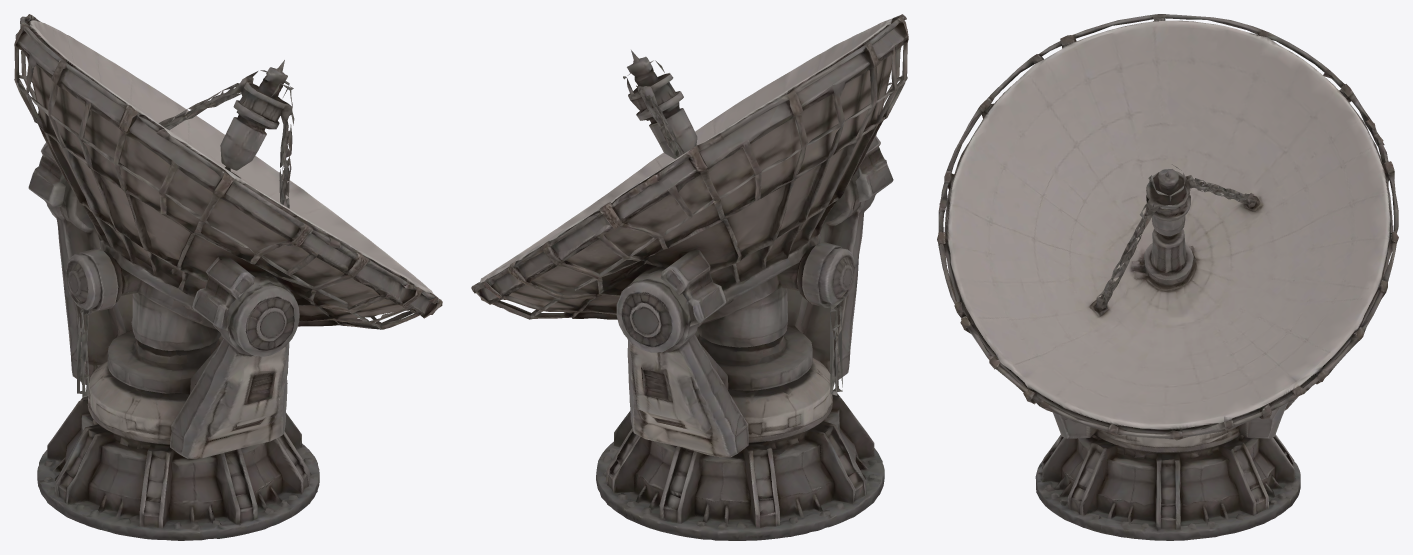
The model's file is dishMount.glb.
3 views of the same model, side by side, from view 1: azimuth 30°, elevation 25°; view 2: azimuth 150°, elevation 25°; view 3: azimuth 270°, elevation 25° (orthographic). The views are drawn at different scales.
Parts seen in each view (by area): view 1: dishMount; view 2: dishMount; view 3: dishMount.
Part boxes in pixels (box(x1,y1,x2,y2)): dishMount: box(14, 14, 442, 540); dishMount: box(471, 14, 908, 540); dishMount: box(937, 14, 1398, 540).
Size of the model in its own units: 26.9 by 32.94 by 33.
1 material, 1 textured.
